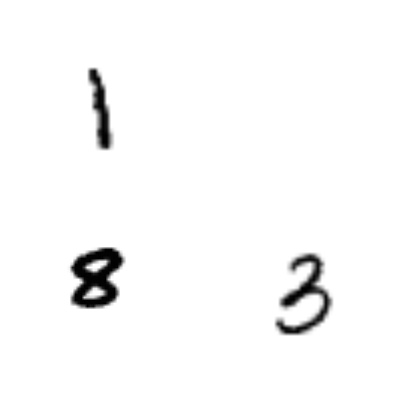0: (270, 42, 326, 98), (300, 254, 356, 310)
1: (361, 25, 375, 39)
8: (157, 296, 213, 352), (134, 377, 162, 405), (290, 169, 304, 183)
Bag: (378, 28, 400, 50)
Sneaker: (44, 216, 72, 244)
Trouser: (57, 317, 113, 373)
